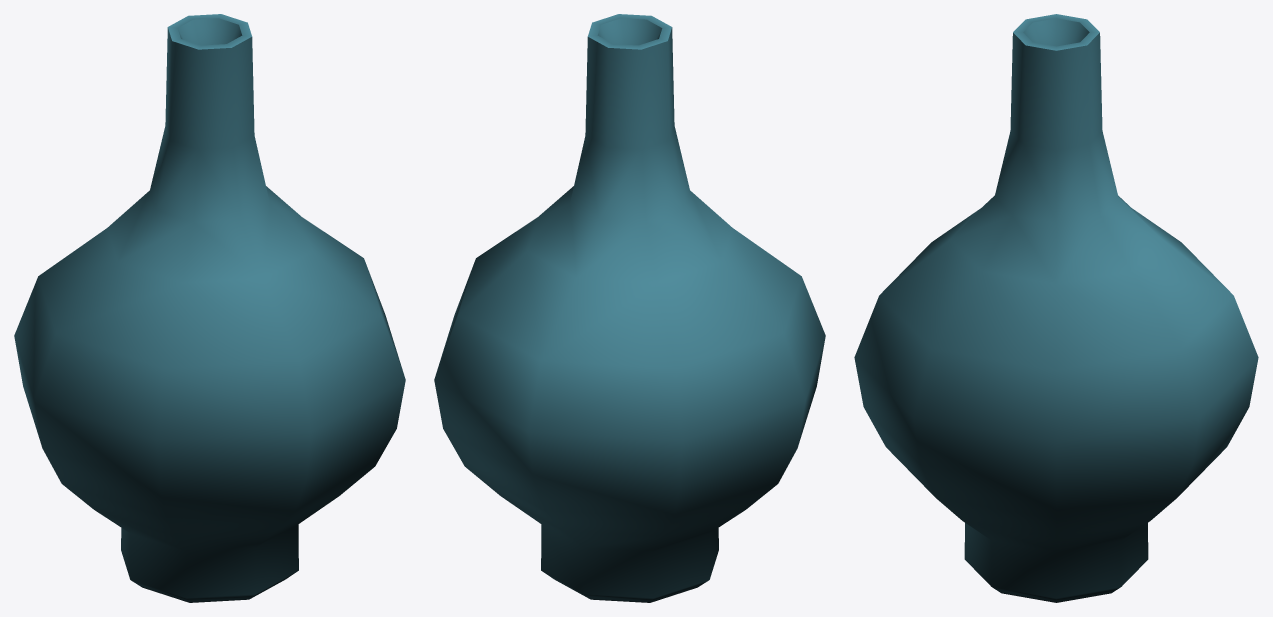
File: vase01.fbx
The picture shows the model from 3 angles, left to right: view 1: azimuth 30°, elevation 25°; view 2: azimuth 150°, elevation 25°; view 3: azimuth 270°, elevation 25°; orthographic projection.
Visible parts, largest first — view 1: vase01 1; view 2: vase01 1; view 3: vase01 1.
Part boxes in pixels (bbox=[...]): vase01 1: bbox=[14, 14, 405, 602]; vase01 1: bbox=[434, 14, 825, 602]; vase01 1: bbox=[854, 14, 1258, 602].
Size of the model in its own units: 0.096 by 0.141 by 0.096.
